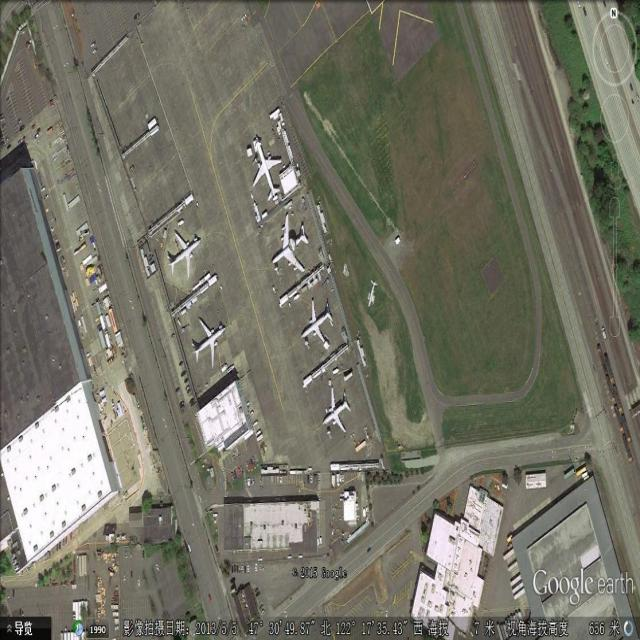aircraft: (269, 207, 311, 277), (189, 314, 229, 374), (251, 136, 285, 203), (299, 296, 337, 352), (167, 228, 204, 283), (321, 382, 354, 438), (364, 274, 381, 314)
